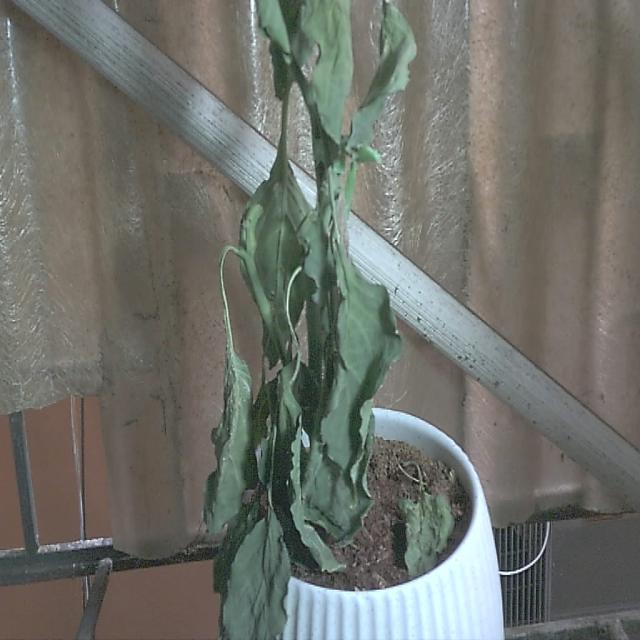Leaf: (319, 249, 402, 501), (236, 153, 318, 368), (202, 342, 260, 540), (222, 517, 290, 640), (302, 1, 354, 150)
